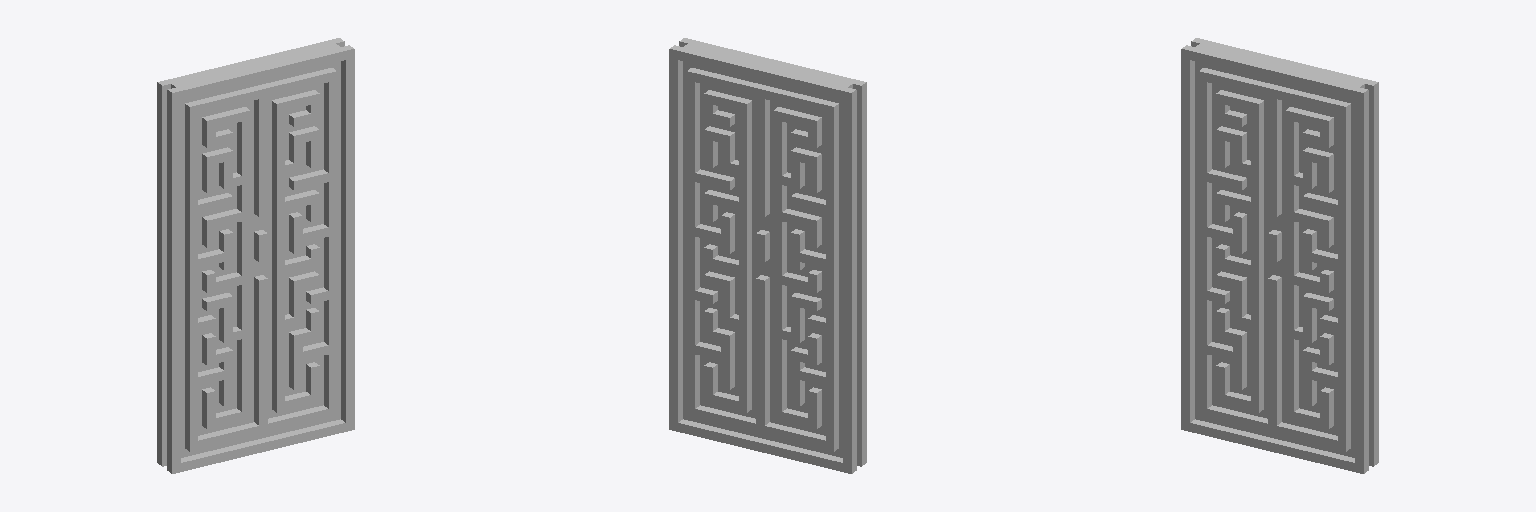
File: Porte.obj
3 views of the same model, side by side, from view 1: azimuth 30°, elevation 25°; view 2: azimuth 150°, elevation 25°; view 3: azimuth 330°, elevation 25° (orthographic).
Size of the model in its own units: 21 by 42 by 3.